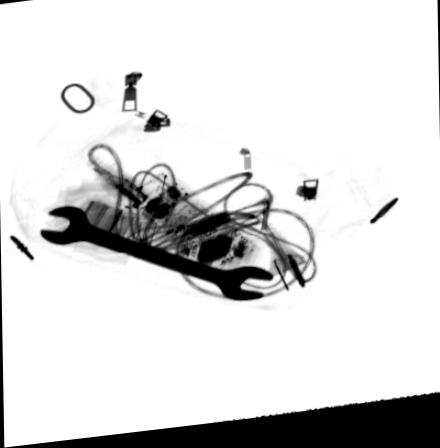Wrench: (36, 205, 274, 309)
